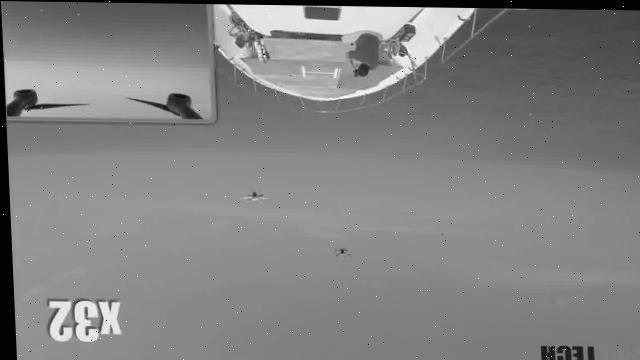drone: (235, 183, 272, 203), (327, 239, 351, 264)
